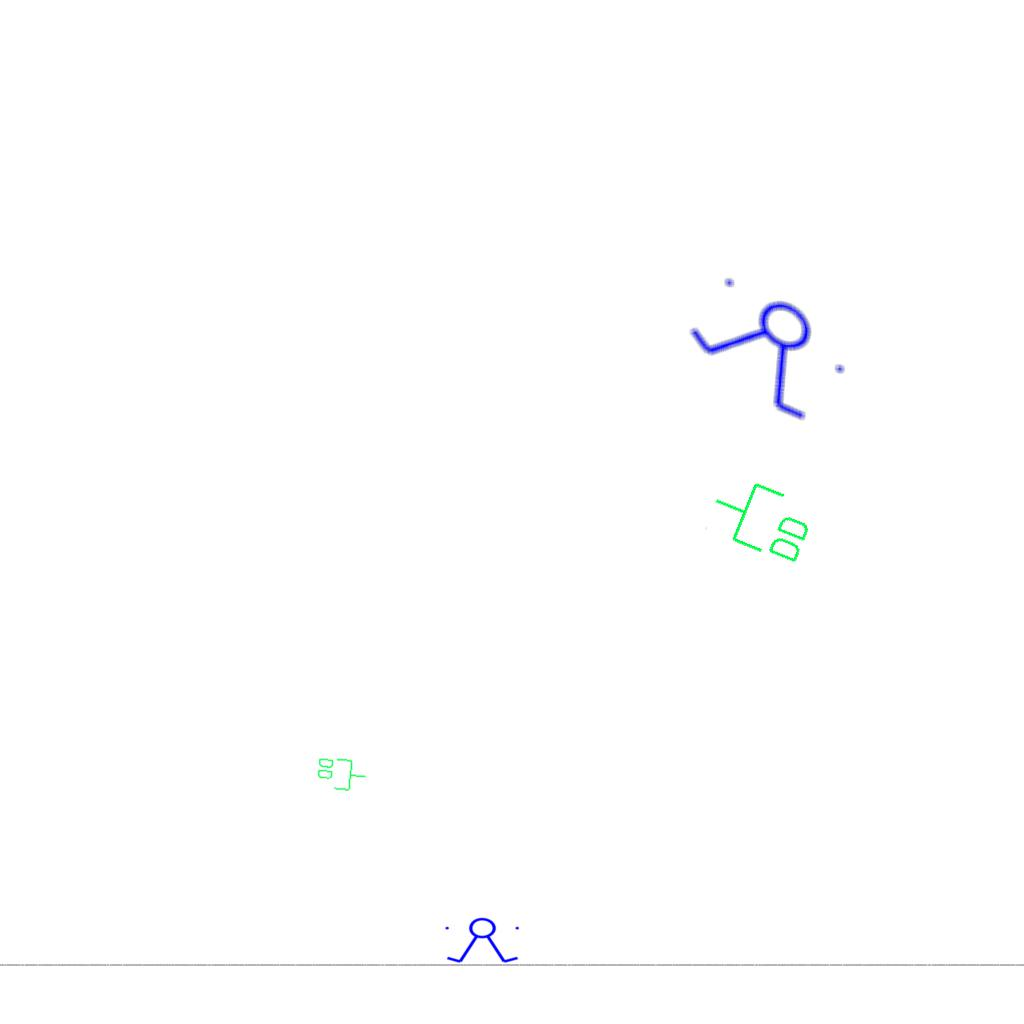Datenanschluss_zweifach: (700, 468, 823, 571), (314, 754, 369, 794)
Serienschalter: (674, 257, 866, 437), (441, 917, 525, 965)
